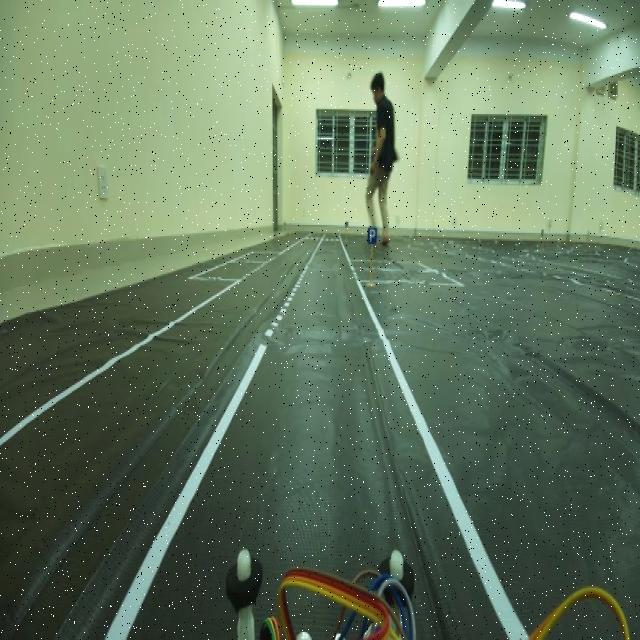parking: (364, 222, 378, 252)
